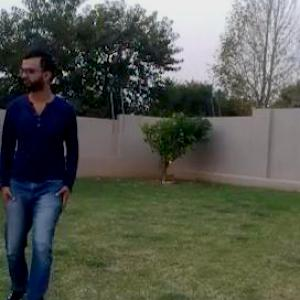follow: (0, 43, 81, 299)
